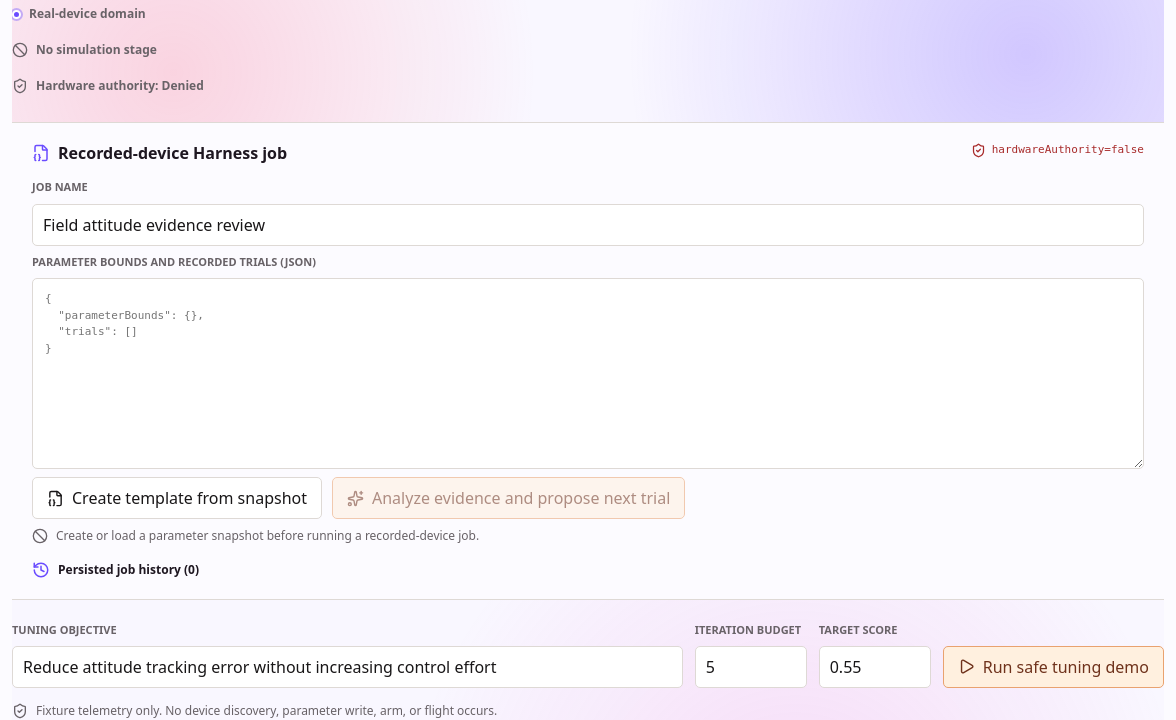
Test case: Field tuning result ownership › does not show a late demo receipt under an edited objective
Click the button "Run safe tuning demo" at (1053,666), box [943,646,1164,688]
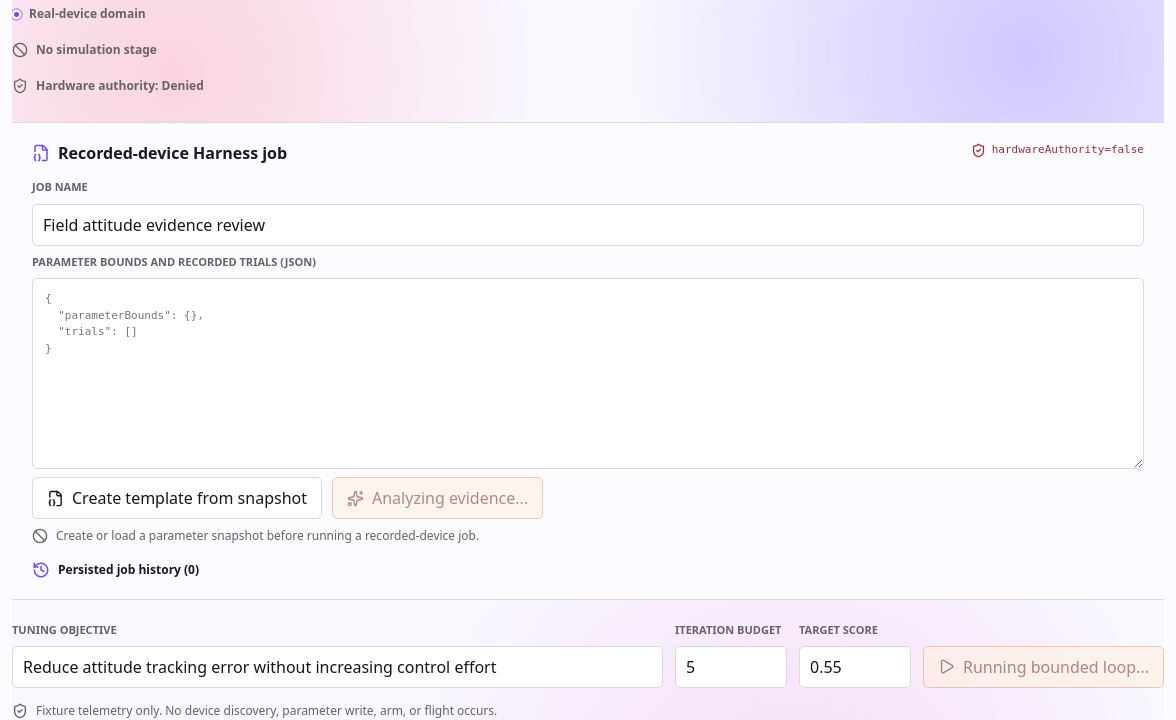
Replace the text in the field labelled "Tuning objective" with "new objective" at (338,666), box [12,646,663,688]
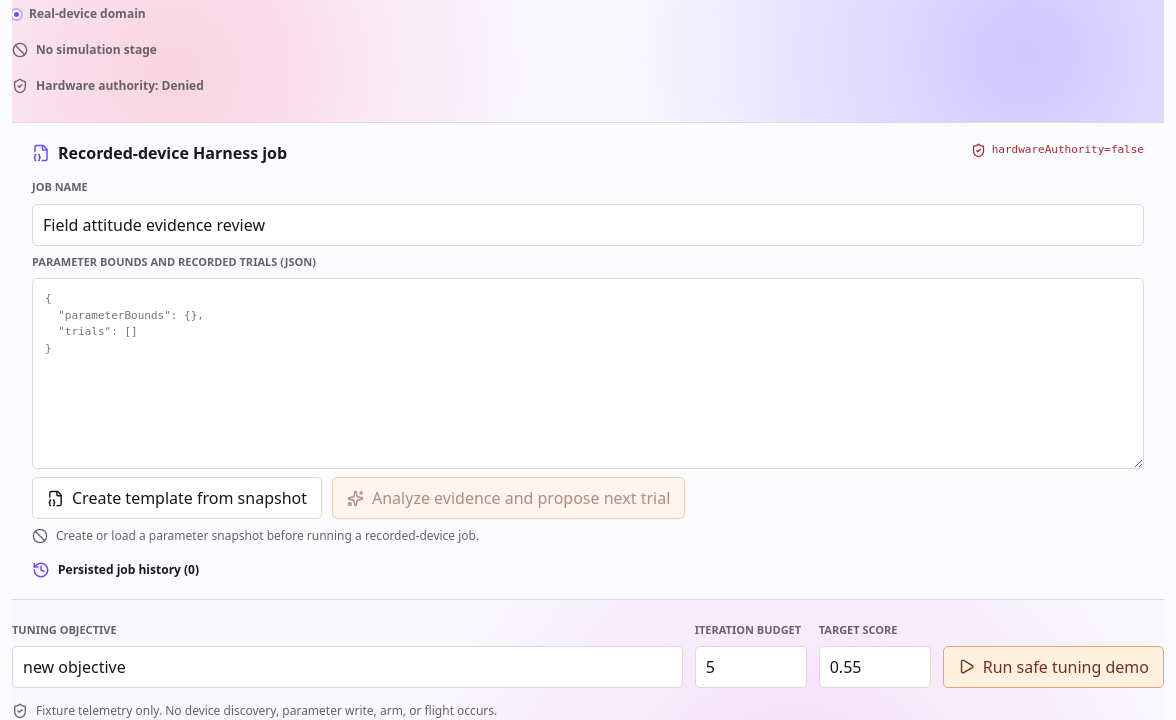
Check: the button "Run safe tuning demo" is enabled, box [943,646,1164,688]
